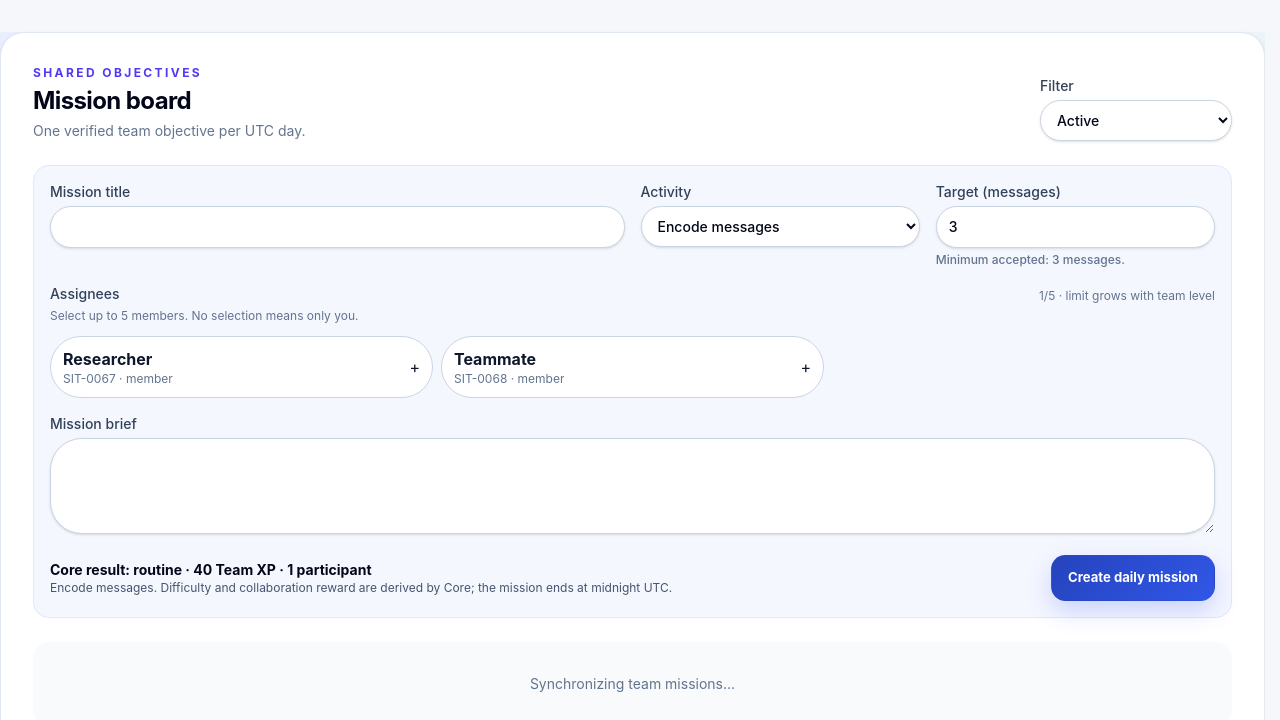
Test: TeamWorkspaceBoards › derives difficulty and reward while selecting multiple real team members
Check: the dropdown labelled "Activity" is shown, box [640,206,920,247]
Check: the element named "Mission assignees" is shown, box [50,336,824,398]
Click the button "Researcher SIT-0067 · member +": (108, 359) [50,336,433,398]
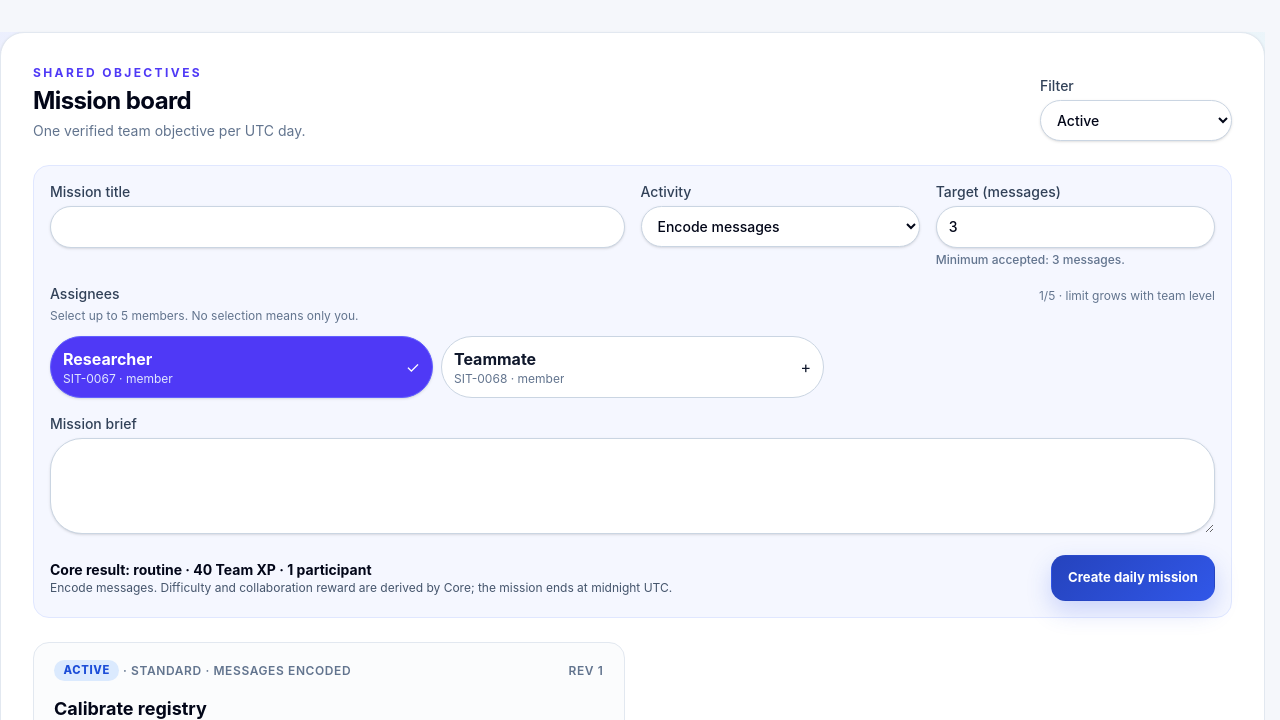
Click the button "Teammate SIT-0068 · member +": (495, 359) [441,336,824,398]
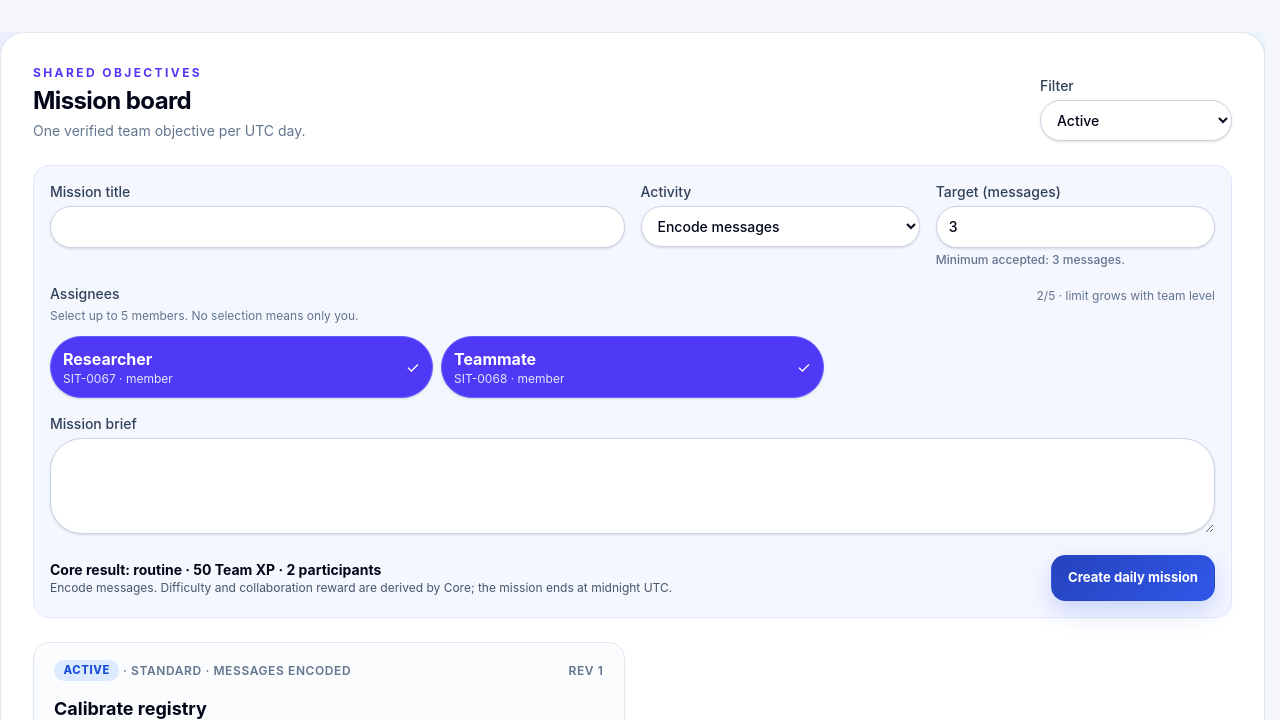
Check: the text "2/5 · limit grows with team level" is shown, box [1036,288,1215,304]
Check: the text "Core result: routine · 50 Team XP · 2 participants" is shown, box [50,561,381,578]
Select "Process SYTE" in the dropdown labelled "Activity": (780, 226) [640,206,920,247]
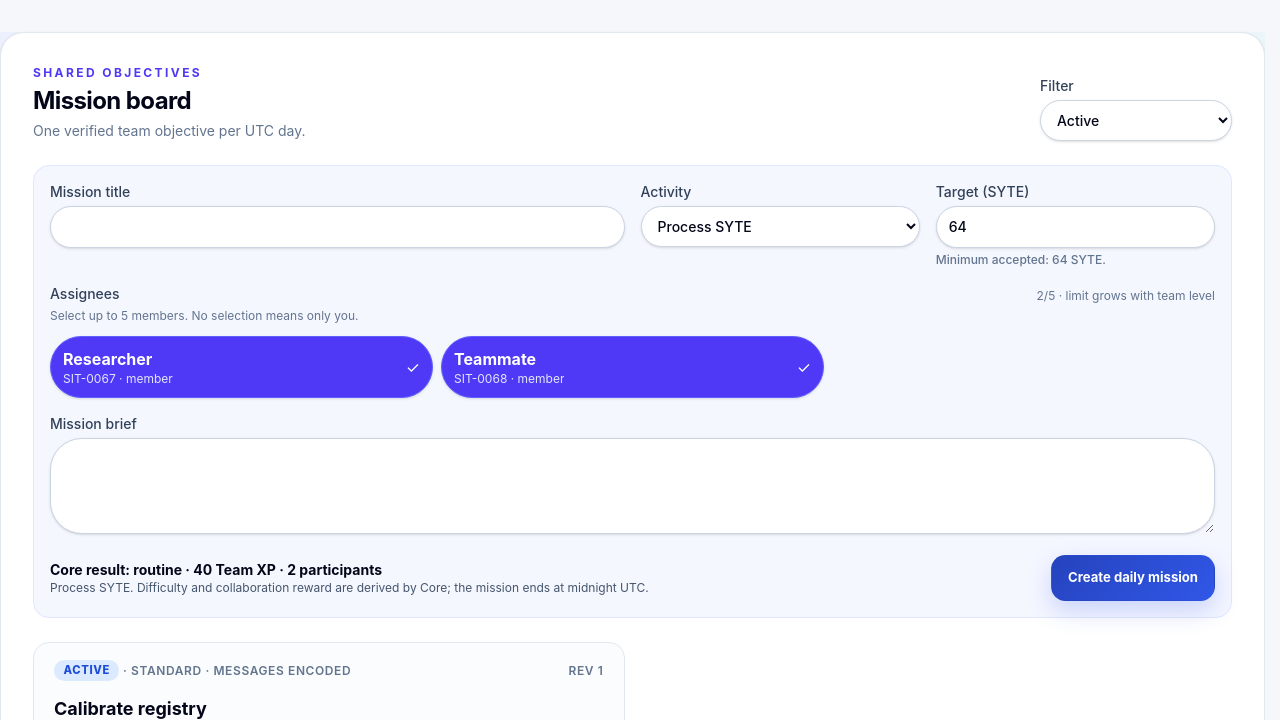
Check: the number field labelled "Target (SYTE) Minimum accepted: 64 SYTE." holds "64", box [936,206,1215,248]
Check: the text "Minimum accepted: 64 SYTE." is shown, box [936,252,1106,267]
Select "Encode messages" in the dropdown labelled "Activity": (780, 226) [640,206,920,247]
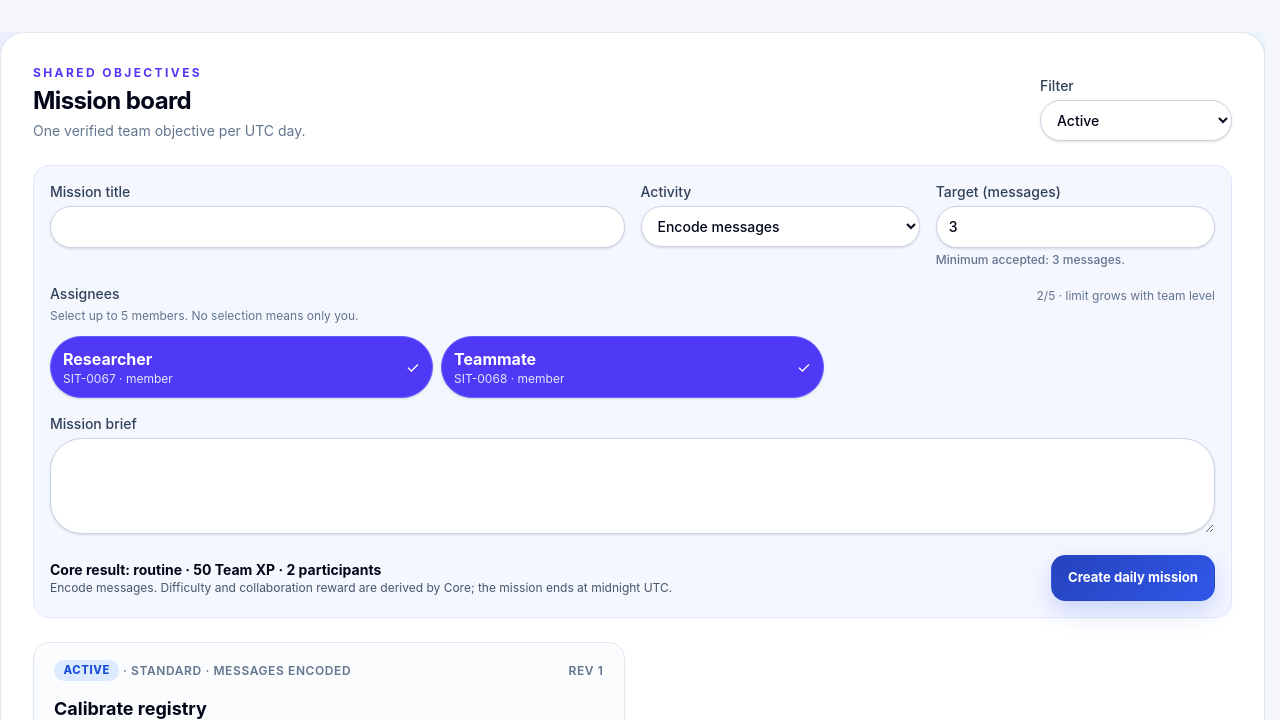
Clear the number field labelled "Target (messages) Minimum accepted: 3 messages.": (1075, 227) [936,206,1215,248]
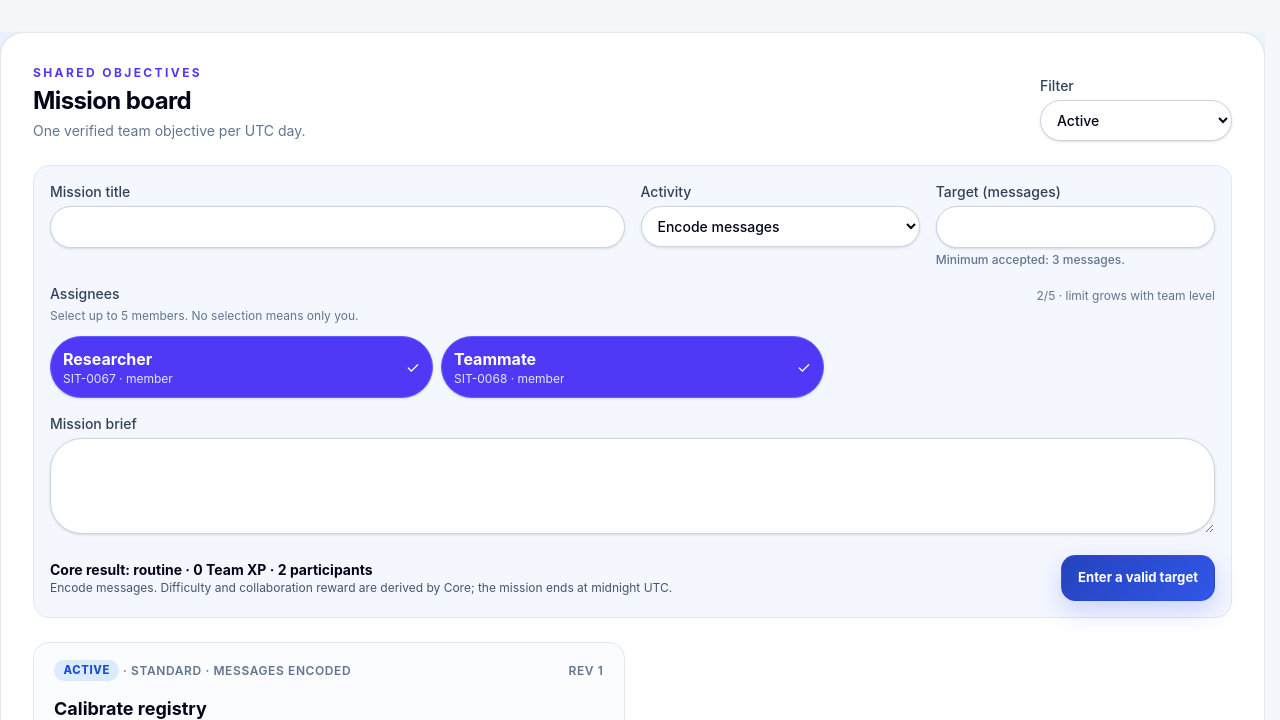
Check: the button "Enter a valid target" is disabled, box [1061,555,1215,601]
In the number field labelled "Target (messages) Minimum accepted: 3 messages.": (1075, 227) [936,206,1215,248], type "12"
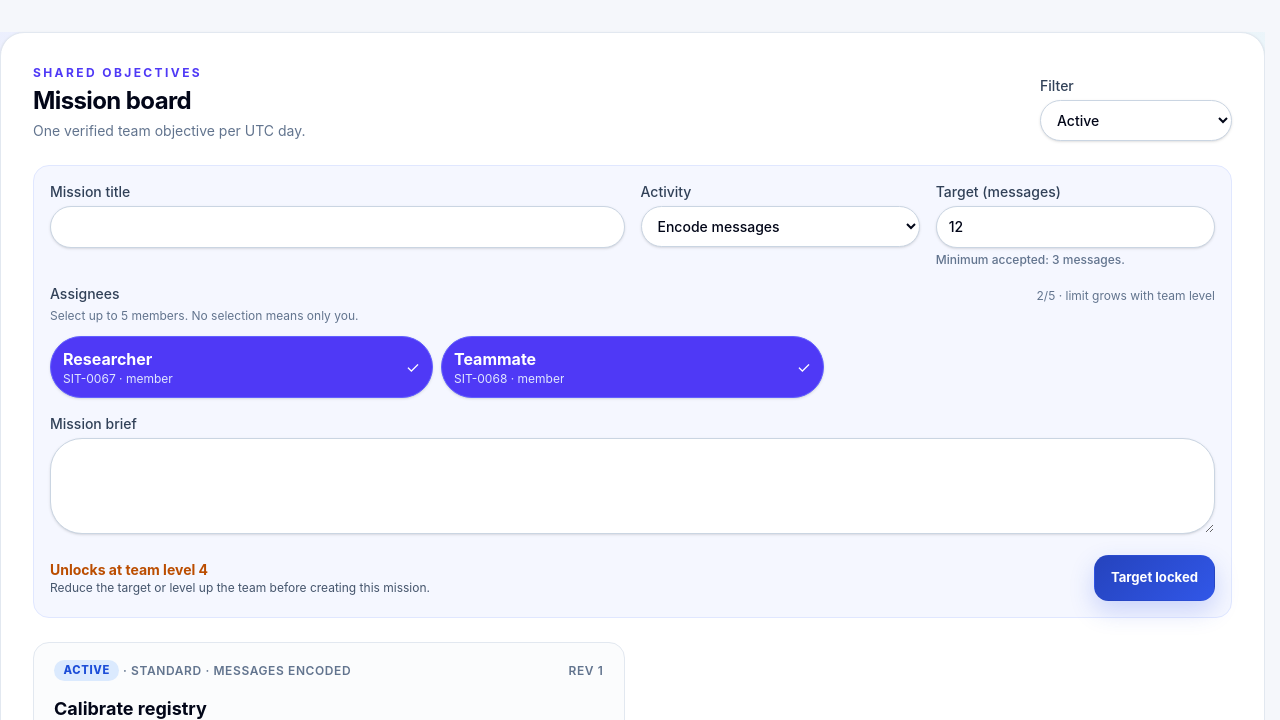
Check: the button "Target locked" is disabled, box [1094,555,1215,601]
Check: the text "Unlocks at team level 4" is shown, box [50,561,208,578]
